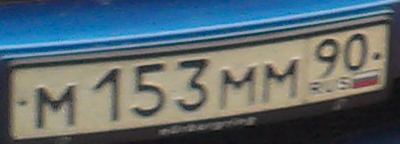character: (32, 82, 80, 133), (129, 60, 169, 121), (174, 55, 211, 118), (216, 63, 259, 113), (89, 63, 123, 126), (262, 55, 301, 106), (313, 33, 341, 82), (341, 30, 371, 75)
